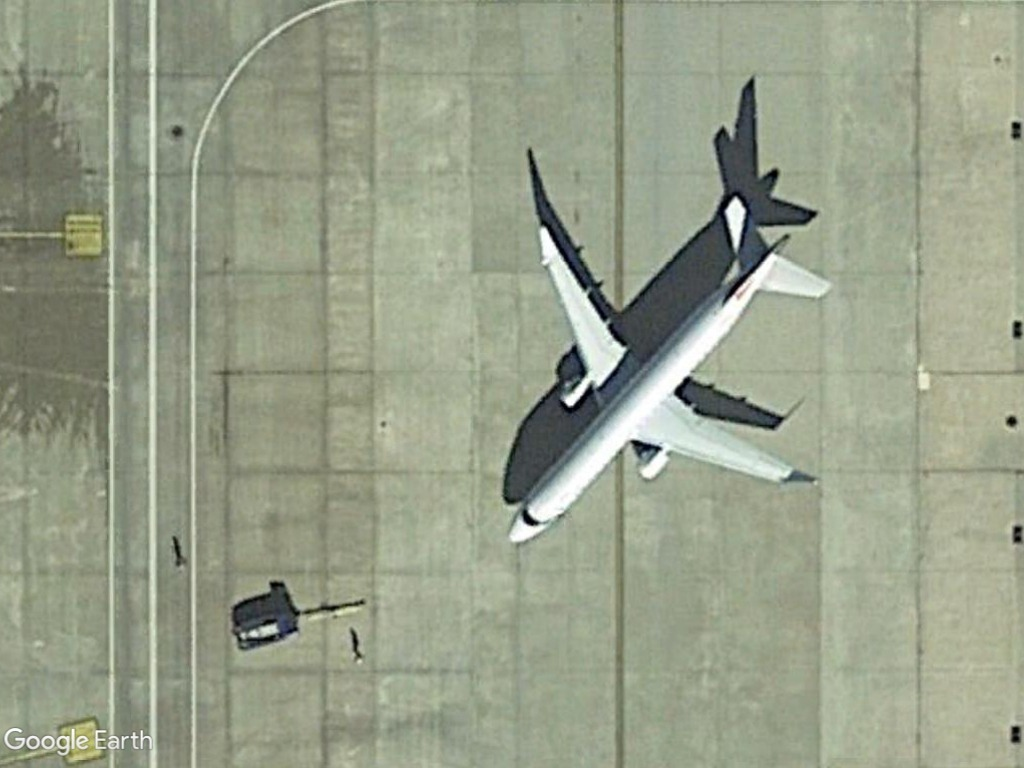airliner: (495, 190, 834, 554)
